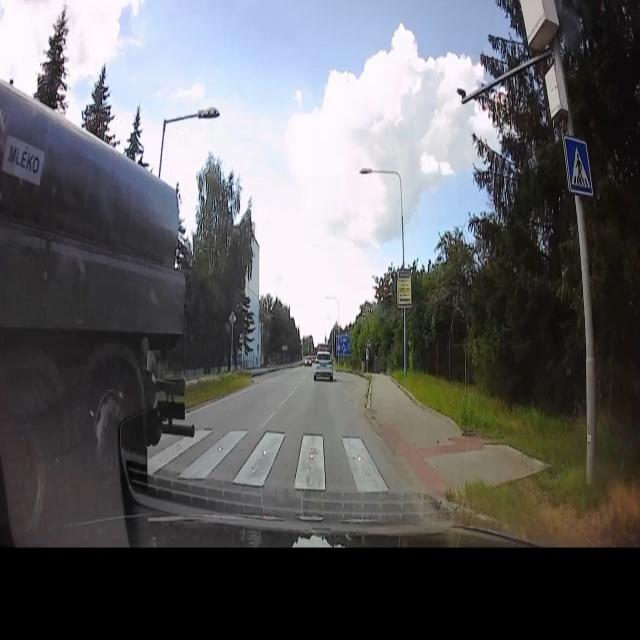Pedestrian crosswalk: (125, 408, 391, 500), (561, 128, 596, 198)
